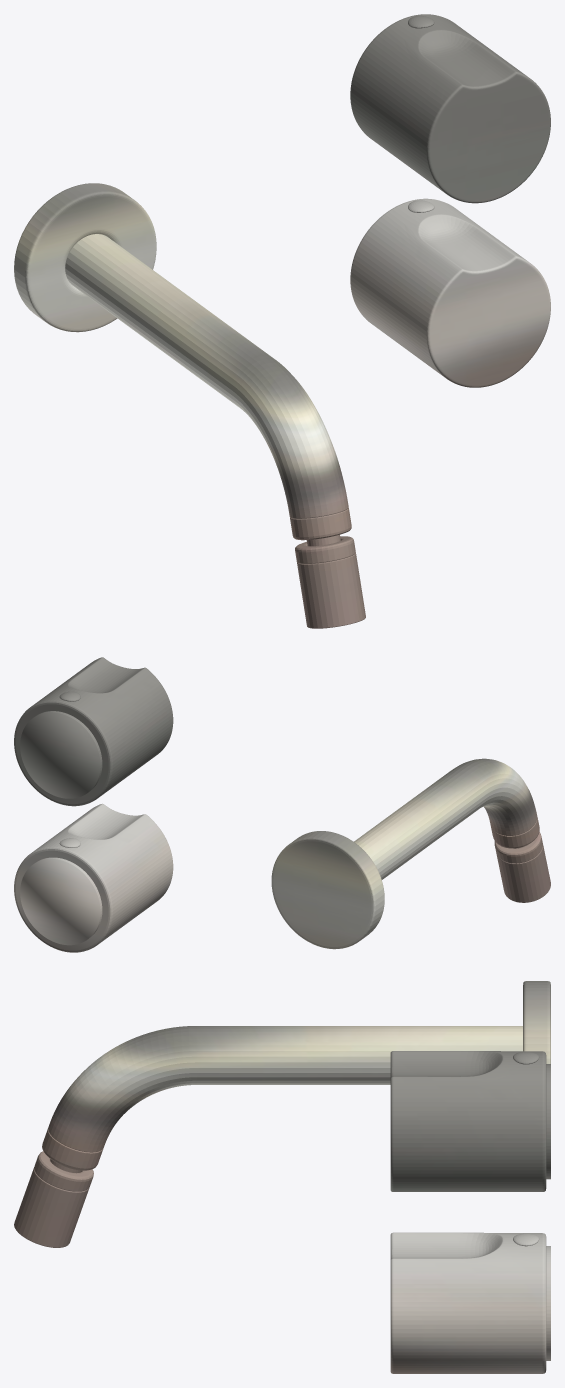
File: Llaveagua.obj
3 views of the same model, one above another, from view 1: azimuth 30°, elevation 25°; view 2: azimuth 150°, elevation 25°; view 3: azimuth 270°, elevation 25° (orthographic). The views are drawn at different scales.
Parts seen in each view (by area): view 1: Roca_Element_Wall_Mounted_3_Hole_Bidet_Mixer; view 2: Roca_Element_Wall_Mounted_3_Hole_Bidet_Mixer; view 3: Roca_Element_Wall_Mounted_3_Hole_Bidet_Mixer.
Part boxes in pixels (x1=…): Roca_Element_Wall_Mounted_3_Hole_Bidet_Mixer: x1=14, y1=14, x2=550, y2=628; Roca_Element_Wall_Mounted_3_Hole_Bidet_Mixer: x1=14, y1=657, x2=550, y2=952; Roca_Element_Wall_Mounted_3_Hole_Bidet_Mixer: x1=14, y1=981, x2=550, y2=1373.
Bounding box in the file's own units: 5.08 × 3.72 × 5.24.
Materials: 1 (1 with a texture image).
